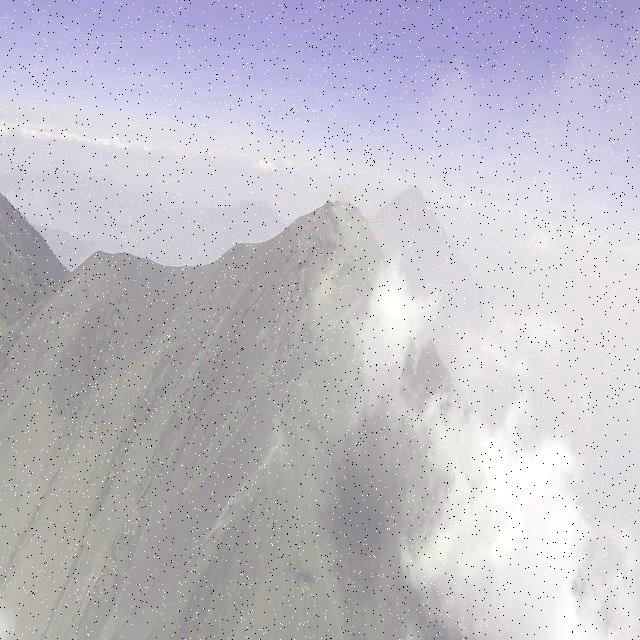Summit: (204, 188, 442, 352)
